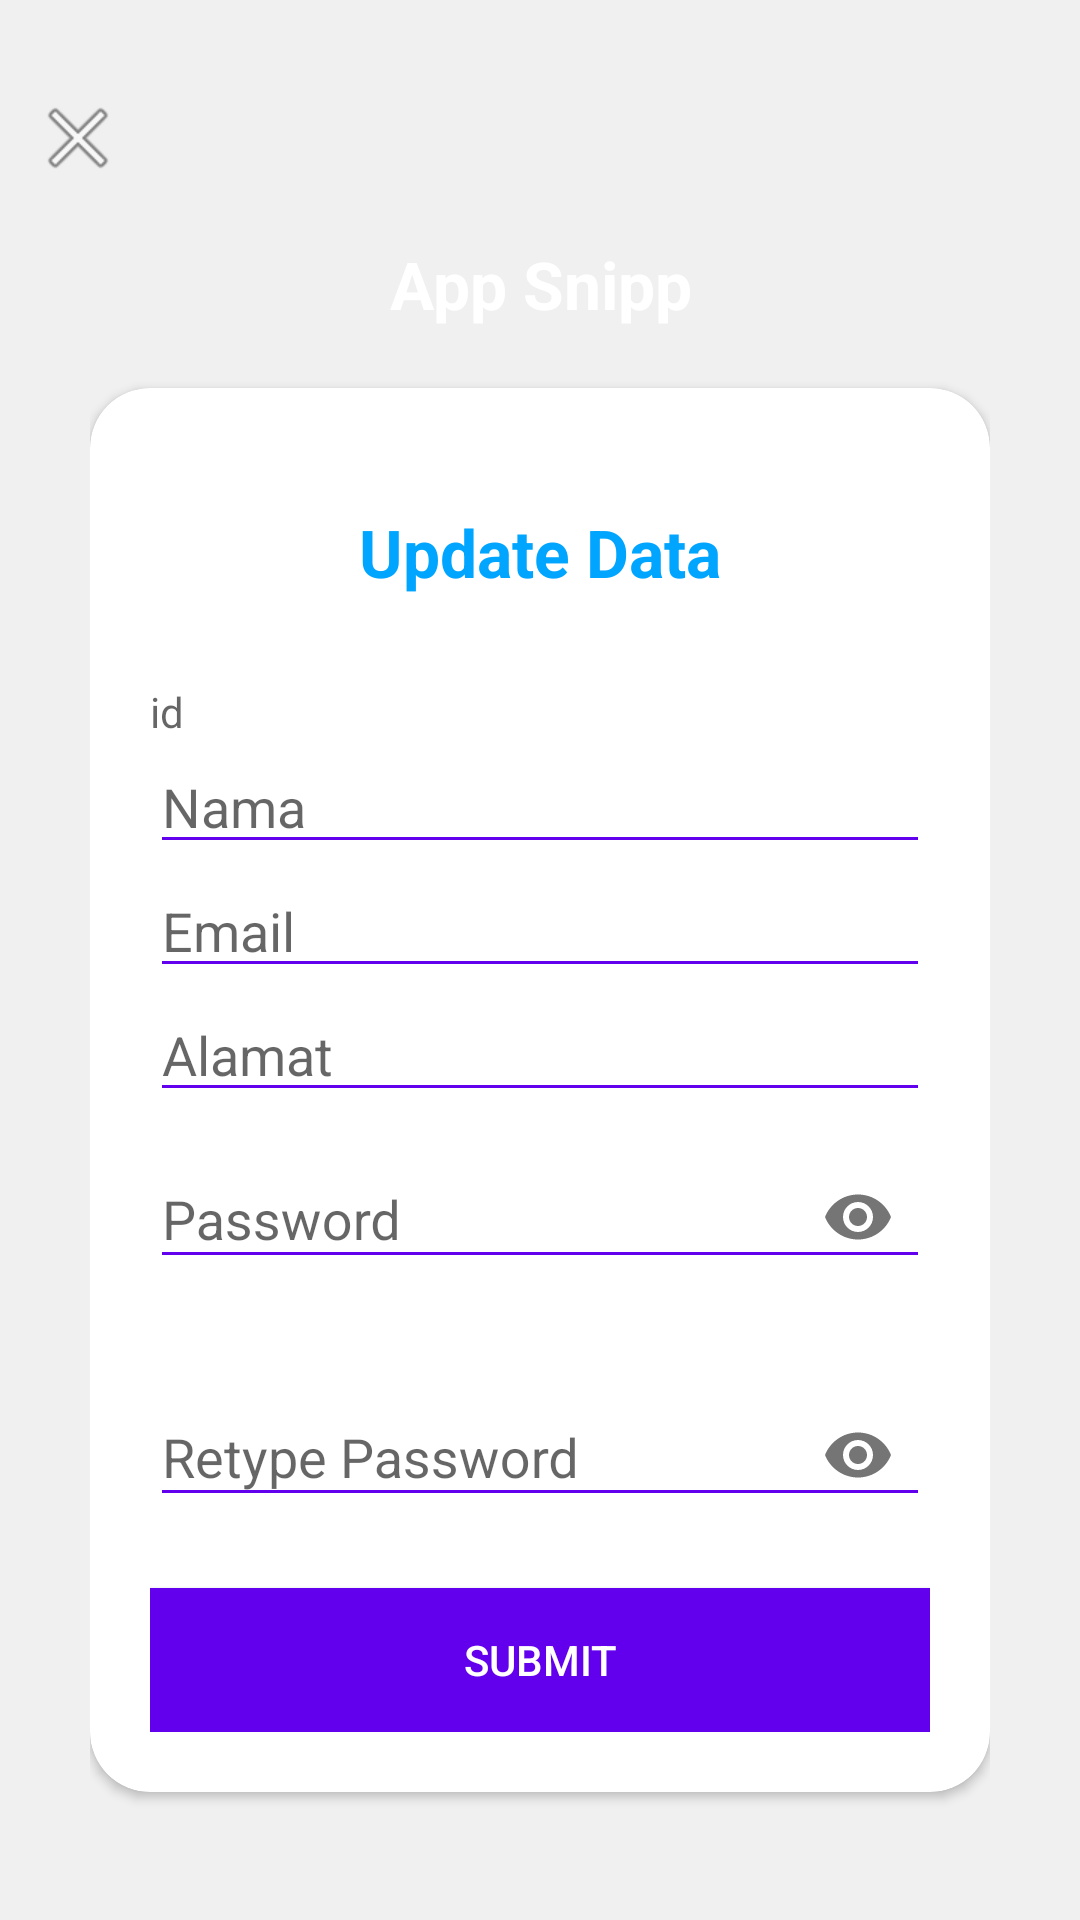

Screen size 1080 x 1920. Icon name, then its box in pixels as {"left": x1, "top": y1, "right": x2, "bottom": y2}:
close clear cancel: {"left": 48, "top": 108, "right": 108, "bottom": 168}
